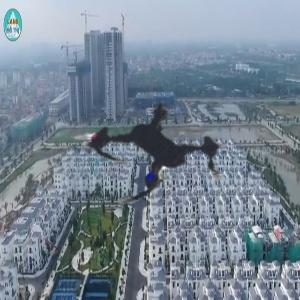drone: (27, 19, 288, 280)
